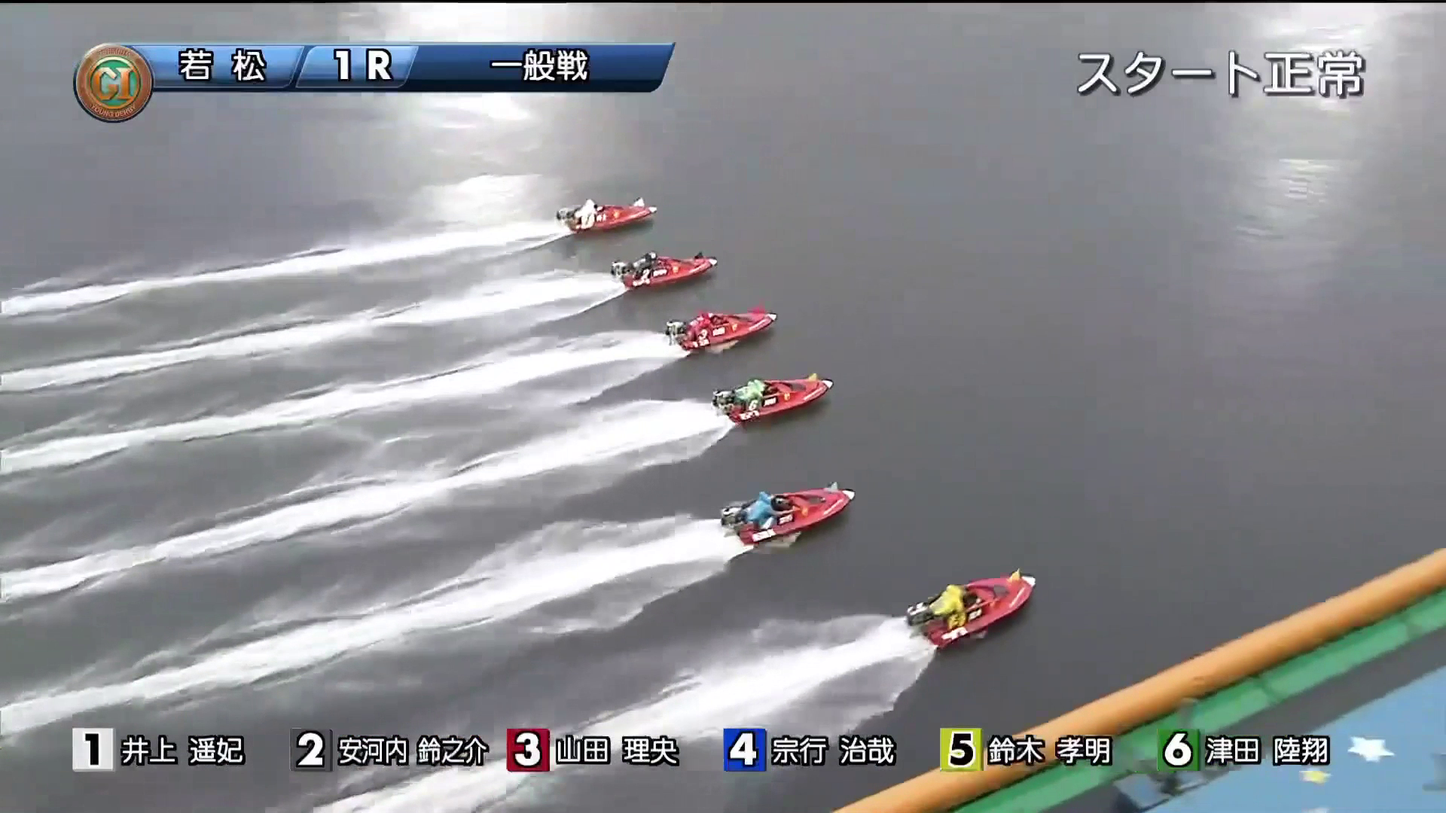１号艇: (561, 201, 637, 240)
２号艇: (600, 249, 702, 287)
３号艇: (657, 307, 778, 349)
４号艇: (713, 377, 817, 420)
５号艇: (720, 487, 840, 542)
６号艇: (887, 575, 1038, 632)
